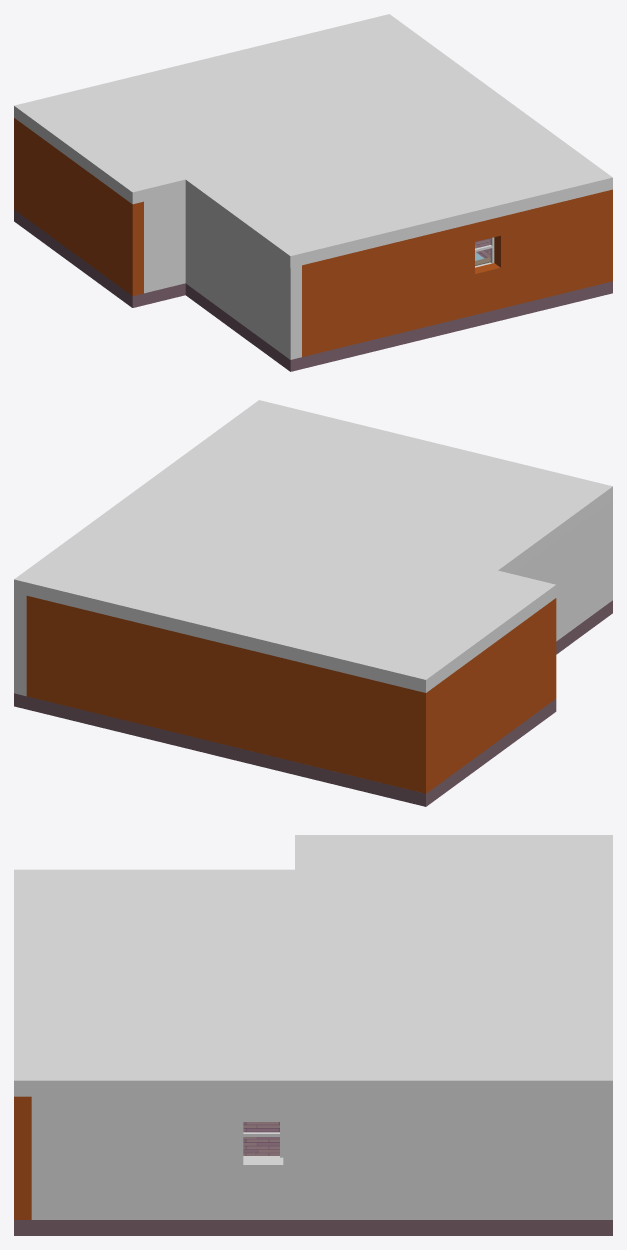
Rendered from Room.fbx.
The picture shows the model from 3 angles, top to bottom: view 1: azimuth 30°, elevation 25°; view 2: azimuth 150°, elevation 25°; view 3: azimuth 270°, elevation 25°; orthographic projection. The views are drawn at different scales.
Parts seen in each view (by area): view 1: Ceiling, Wall1, Wall4, Wall6, Wall5, Floor-Corner-Right, Floor-Corner-Right.001, Floor-Corner-Left, Floor.010, Floor.004, Floor.009, Wall3; view 2: Ceiling, Wall3, Wall4, Wall6, Floor-Corner-Right.002, Wall2, Floor.014, Floor.013, Floor.016, Floor.015, Floor-Corner-Right.003, Floor-Corner-Right.001 (+2 smaller); view 3: Ceiling, Wall2, Wall1, Floor.003, Floor.006, Floor.011, Floor-Corner-Left, Floor.008, Floor-Corner-Right.003, Floor-Middle.009.
Part boxes in pixels (<box>): Ceiling: <box>14,14,612,267</box>; Wall1: <box>302,189,612,356</box>; Wall4: <box>20,123,143,296</box>; Wall6: <box>185,192,301,359</box>; Wall5: <box>144,191,185,293</box>; Floor-Corner-Right: <box>253,333,354,371</box>; Floor-Corner-Right.001: <box>88,264,185,307</box>; Floor-Corner-Left: <box>548,281,612,308</box>; Floor.010: <box>484,297,548,324</box>; Floor.004: <box>355,328,419,355</box>; Floor.009: <box>419,313,483,340</box>; Wall3: <box>14,118,20,213</box>; Ceiling: <box>14,400,612,692</box>; Wall3: <box>26,596,433,793</box>; Wall4: <box>433,598,556,788</box>; Wall6: <box>511,500,612,641</box>; Floor-Corner-Right.002: <box>355,764,466,806</box>; Wall2: <box>14,592,26,696</box>; Floor.014: <box>213,742,284,772</box>; Floor.013: <box>284,759,355,789</box>; Floor.016: <box>72,707,142,737</box>; Floor.015: <box>143,725,213,754</box>; Floor-Corner-Right.003: <box>14,693,72,720</box>; Floor-Corner-Right.001: <box>507,699,556,746</box>; Ceiling: <box>14,835,612,1096</box>; Wall2: <box>31,1096,612,1219</box>; Wall1: <box>14,1096,31,1219</box>; Floor.003: <box>113,1220,213,1235</box>; Floor.006: <box>313,1220,413,1235</box>; Floor.011: <box>213,1220,313,1235</box>; Floor-Corner-Left: <box>14,1220,113,1235</box>; Floor.008: <box>413,1220,512,1235</box>; Floor-Corner-Right.003: <box>513,1220,612,1235</box>; Floor-Middle.009: <box>243,1137,279,1155</box>.
Size of the model in its own units: 1164 by 343 by 1200.
